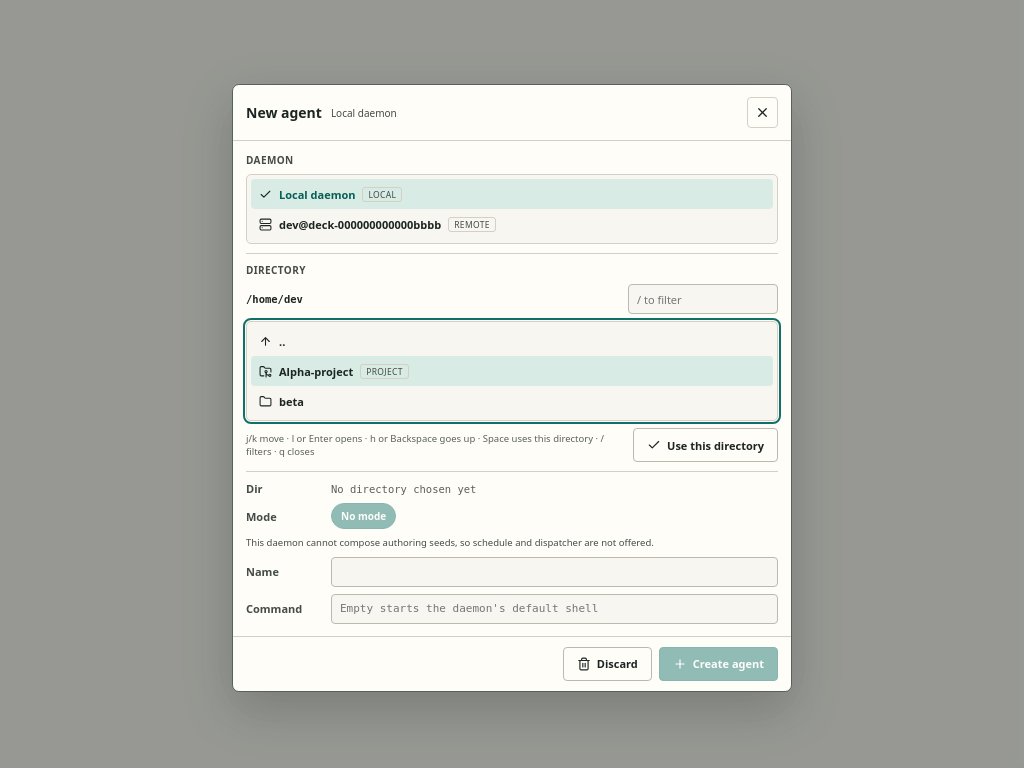
Scenario: New agent dialog — one surface (PRD #1223, the voice-first redesign) › re-derives the directory and the options from a newly chosen deck, keeping a typed Name
The width and height of the screenshot is (1024, 768).
Check: the text with test id "new-agent-current-path" reads "/home/dev", box [246,294,303,306]
Press Space in the list with test id "new-agent-directory-list", box [246,322,778,422]
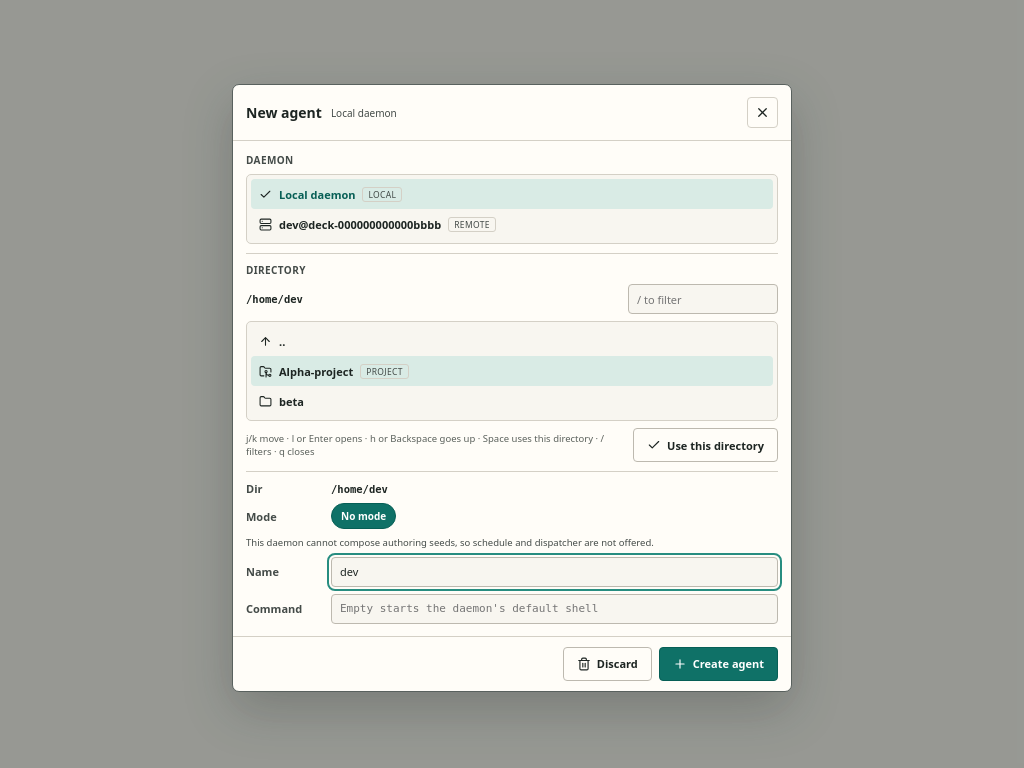
Check: the field with test id "new-agent-name" is enabled
Replace the text in the field with test id "new-agent-name" with "mine" at (554, 572), box [331,557,778,587]
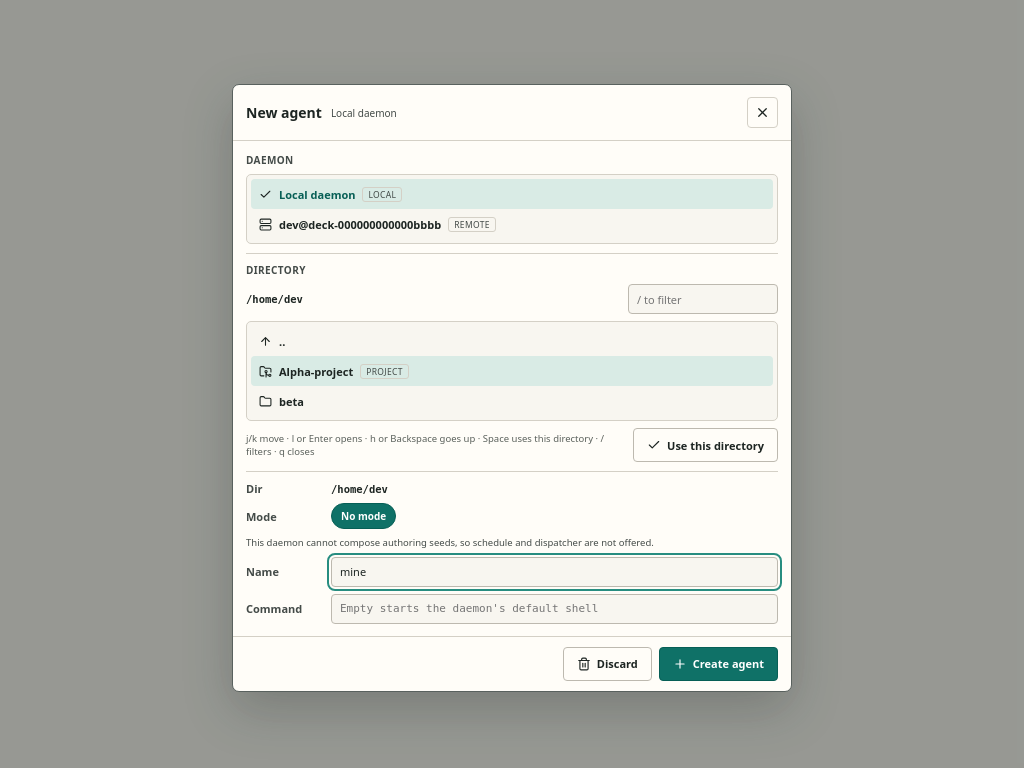
Click the option "dev@deck-000000000000bbbb remote".
click(377, 224)  # box [259,217,496,232]
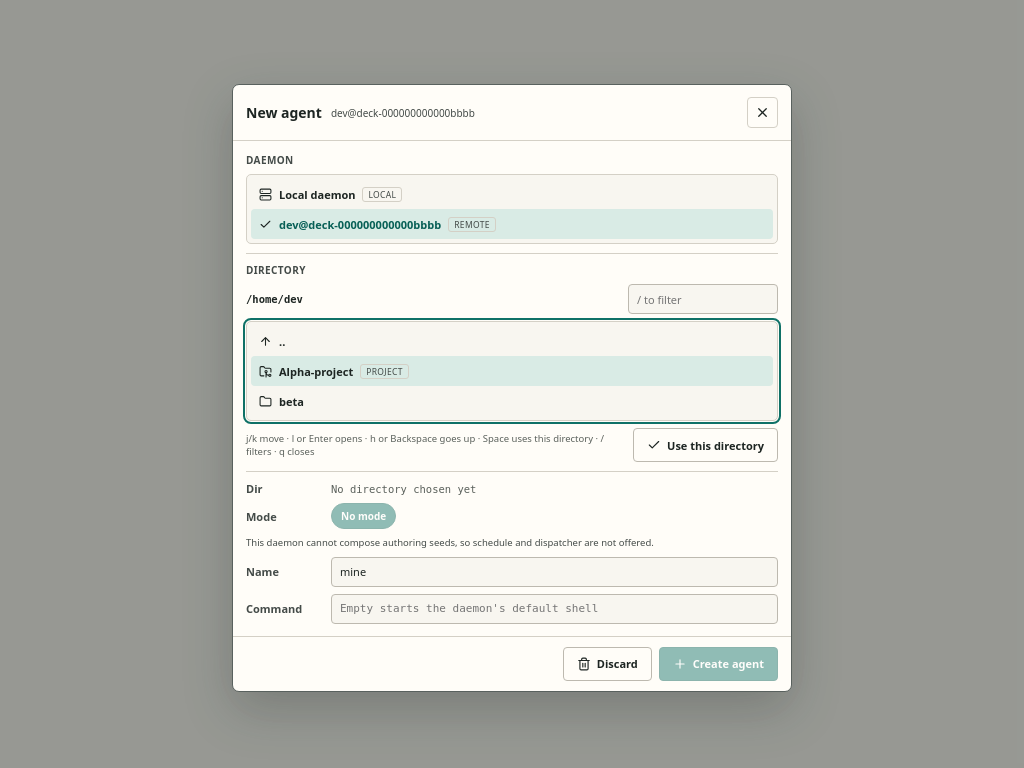
Check: the field with test id "new-agent-name" is disabled, box [331,557,778,587]
Check: the element with test id "new-agent-dir" reads "No directory chosen yet", box [331,483,476,495]
